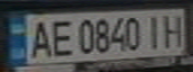0: (75, 16, 96, 55), (124, 15, 145, 52)
4: (109, 15, 130, 53)
8: (93, 16, 112, 54)
A: (24, 18, 54, 60)
E: (45, 17, 75, 57)
H: (157, 11, 187, 48)
I: (142, 12, 166, 50)
